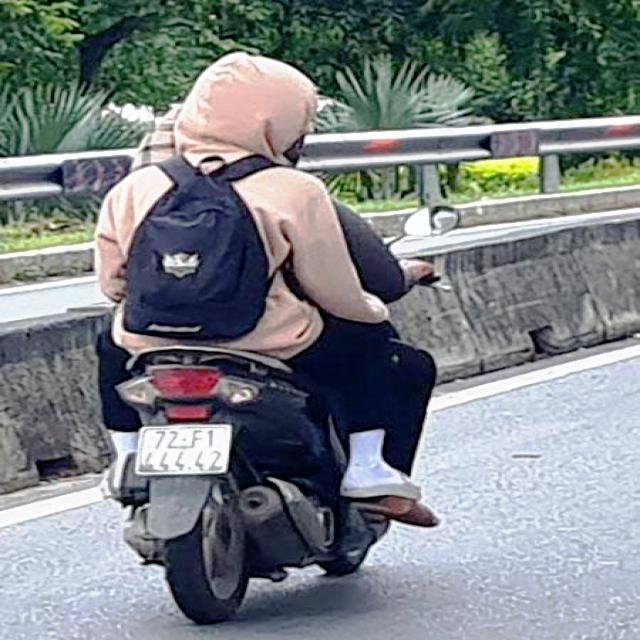license_plate: (141, 428, 232, 478)
